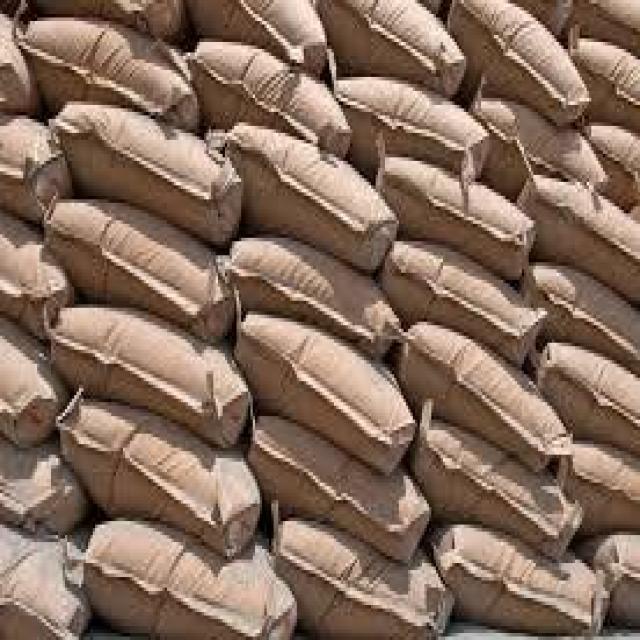gunny_bag: (64, 400, 261, 563), (236, 313, 417, 473), (54, 301, 247, 448), (82, 516, 298, 640), (49, 202, 233, 346), (400, 321, 566, 476), (257, 418, 430, 565), (56, 107, 240, 236), (227, 127, 395, 268), (279, 515, 455, 640), (411, 425, 580, 551), (431, 525, 610, 640), (19, 17, 200, 130), (384, 236, 542, 361), (232, 238, 402, 350), (192, 38, 353, 153), (342, 75, 490, 193), (384, 157, 539, 266), (458, 3, 590, 127), (517, 172, 639, 286), (326, 0, 468, 97), (476, 93, 608, 187), (527, 265, 635, 361), (540, 340, 637, 445), (0, 218, 65, 338), (2, 331, 60, 445), (2, 453, 82, 535), (1, 113, 59, 223), (568, 446, 637, 533)
